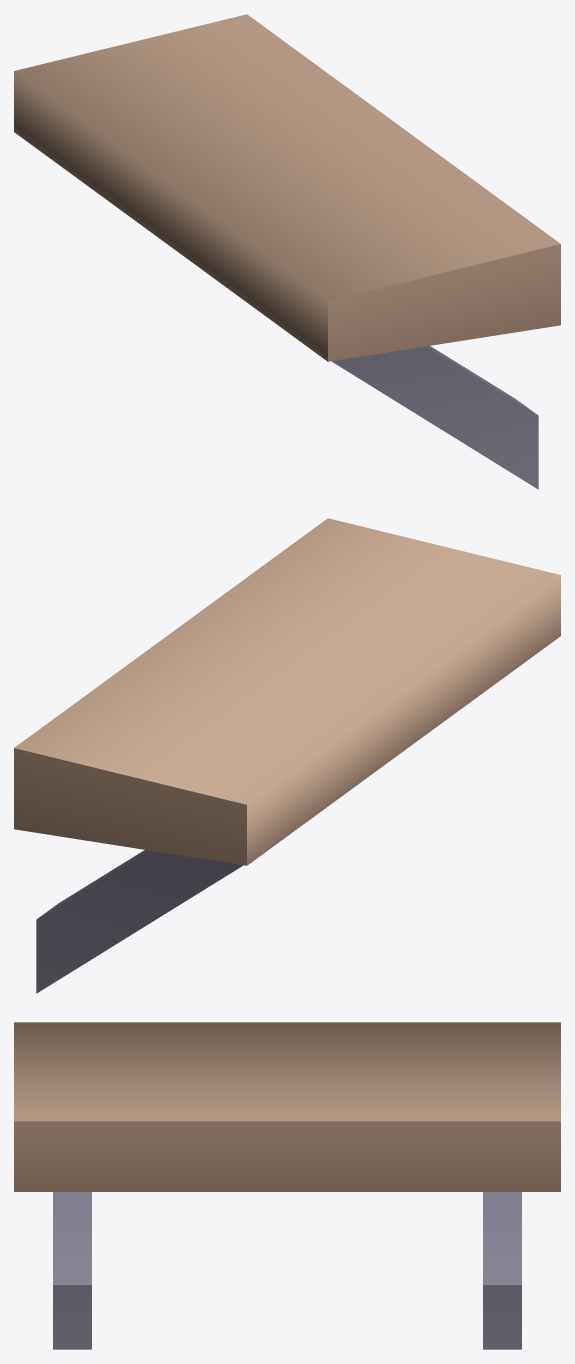
Rendered from shelf-support-short (%wall)_0.glb.
3 renders of one model, top to bottom at view 1: azimuth 30°, elevation 25°; view 2: azimuth 150°, elevation 25°; view 3: azimuth 270°, elevation 25°, orthographic. The views are drawn at different scales.
Parts seen in each view (by area): view 1: shelf-support-short (%wall); view 2: shelf-support-short (%wall); view 3: shelf-support-short (%wall).
Boxes of the visible parts, x1,y1,x2,y2 form: shelf-support-short (%wall): (14, 14, 560, 489); shelf-support-short (%wall): (14, 518, 560, 993); shelf-support-short (%wall): (14, 1022, 560, 1349).
Bounding box in the file's own units: 0.3 × 0.3225 × 0.7.
